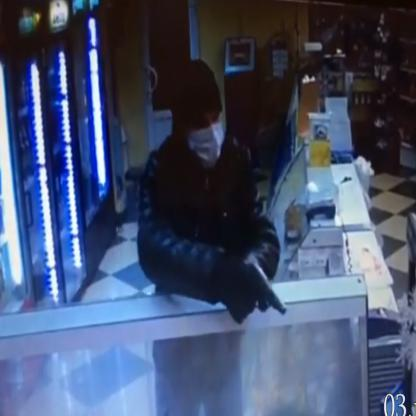pistols: (236, 255, 290, 325)
